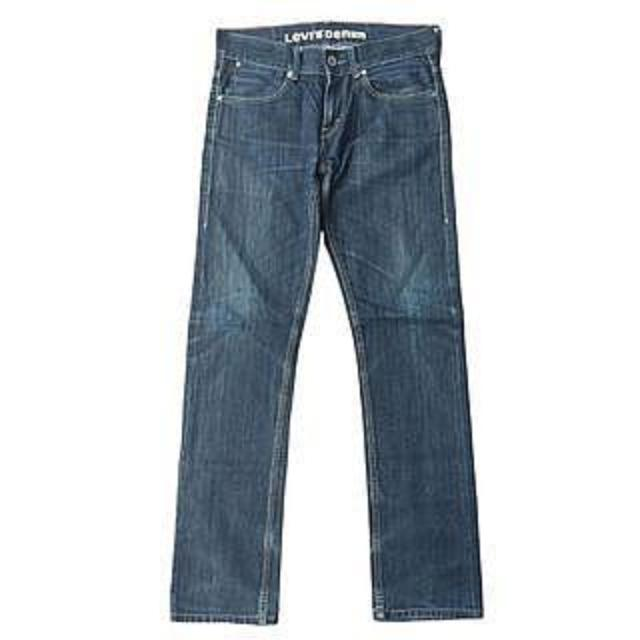TROUSER: (156, 14, 496, 627)
